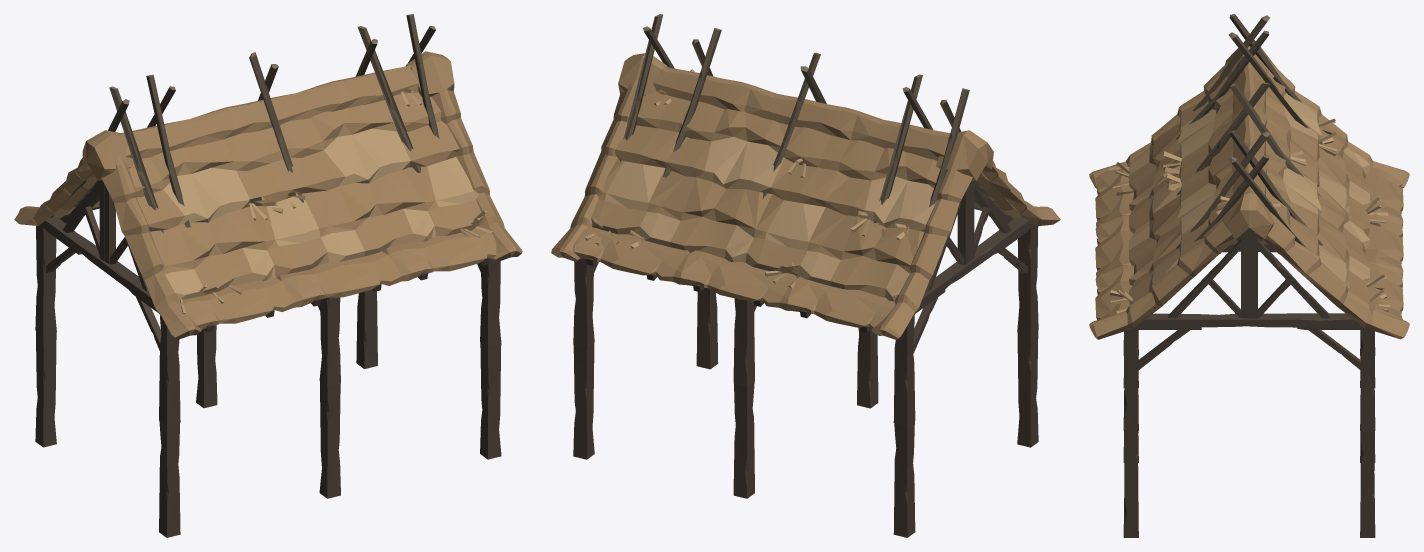
File: SM_Bld_Preset_Shelter_02_Optimized.glb
3 views of the same model, side by side, from view 1: azimuth 30°, elevation 25°; view 2: azimuth 150°, elevation 25°; view 3: azimuth 270°, elevation 25° (orthographic). The views are drawn at different scales.
Visible parts, largest first — view 1: SM_Bld_Preset_Shelter_02_Optimized; view 2: SM_Bld_Preset_Shelter_02_Optimized; view 3: SM_Bld_Preset_Shelter_02_Optimized.
Boxes of the visible parts, left/top/right/bottom form: SM_Bld_Preset_Shelter_02_Optimized: left=14, top=14, right=522, bottom=537; SM_Bld_Preset_Shelter_02_Optimized: left=551, top=14, right=1060, bottom=537; SM_Bld_Preset_Shelter_02_Optimized: left=1089, top=14, right=1409, bottom=537.
Bounding box in the file's own units: 8.49 × 8.81 × 6.78.
Materials: 1 (1 with a texture image).
